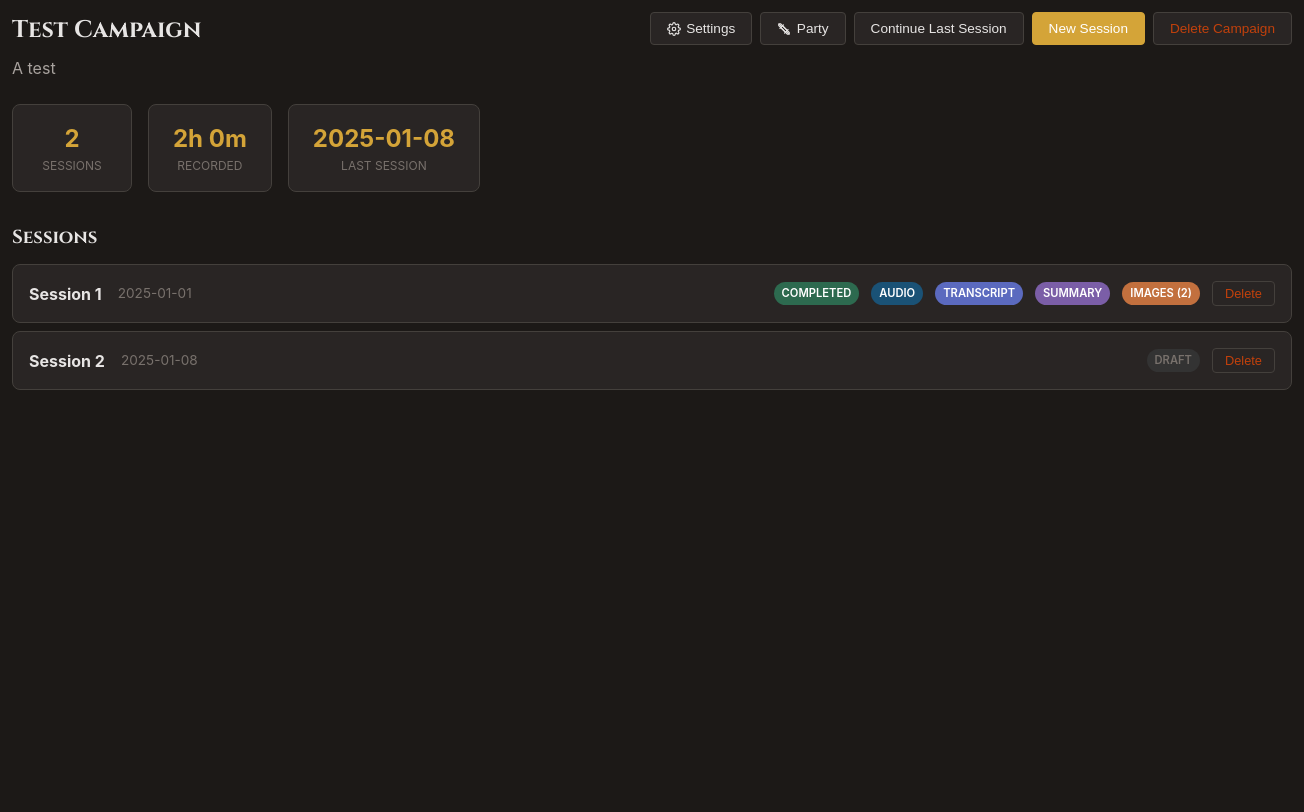
Test: CampaignDashboard › shows new session form when button is clicked
Click the button "New Session": (1088, 28) [1032,12,1145,45]
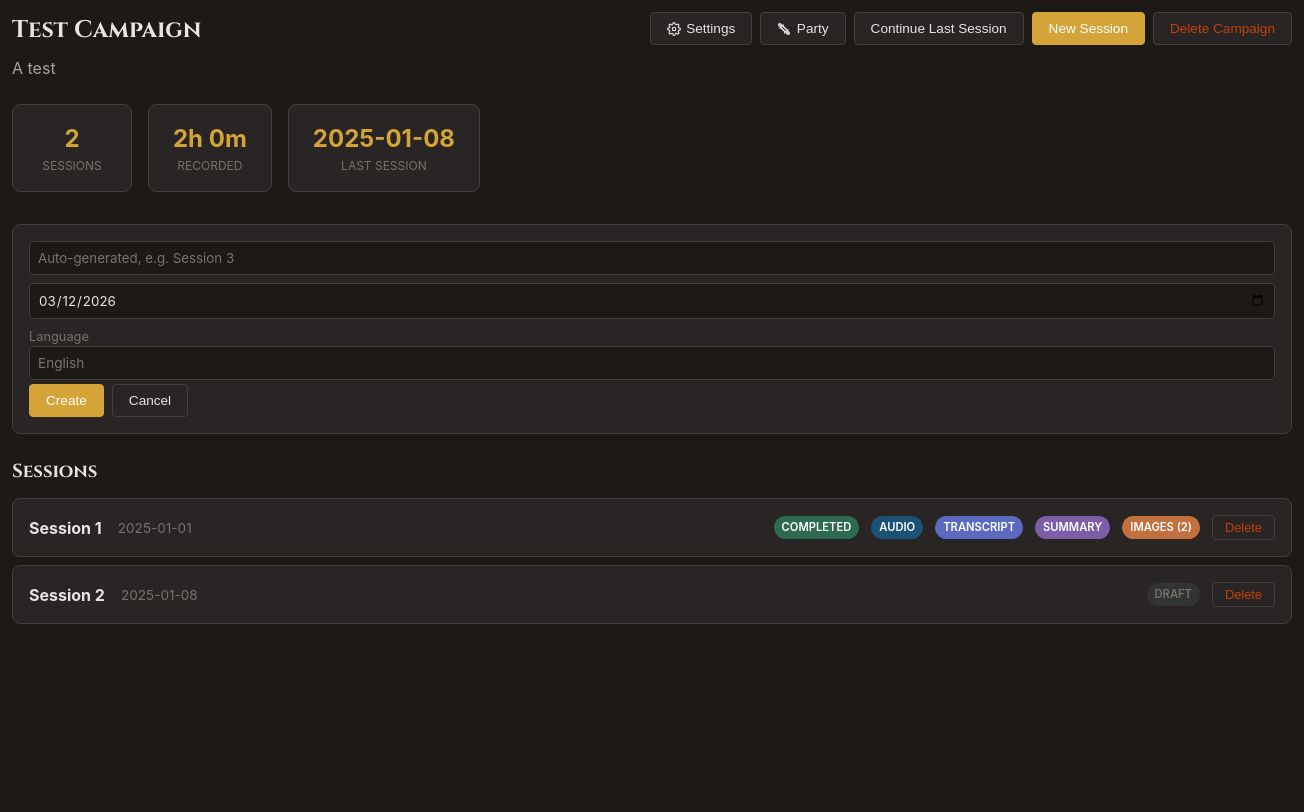
Expected: the button "Create" is shown, [29,384,104,417]
